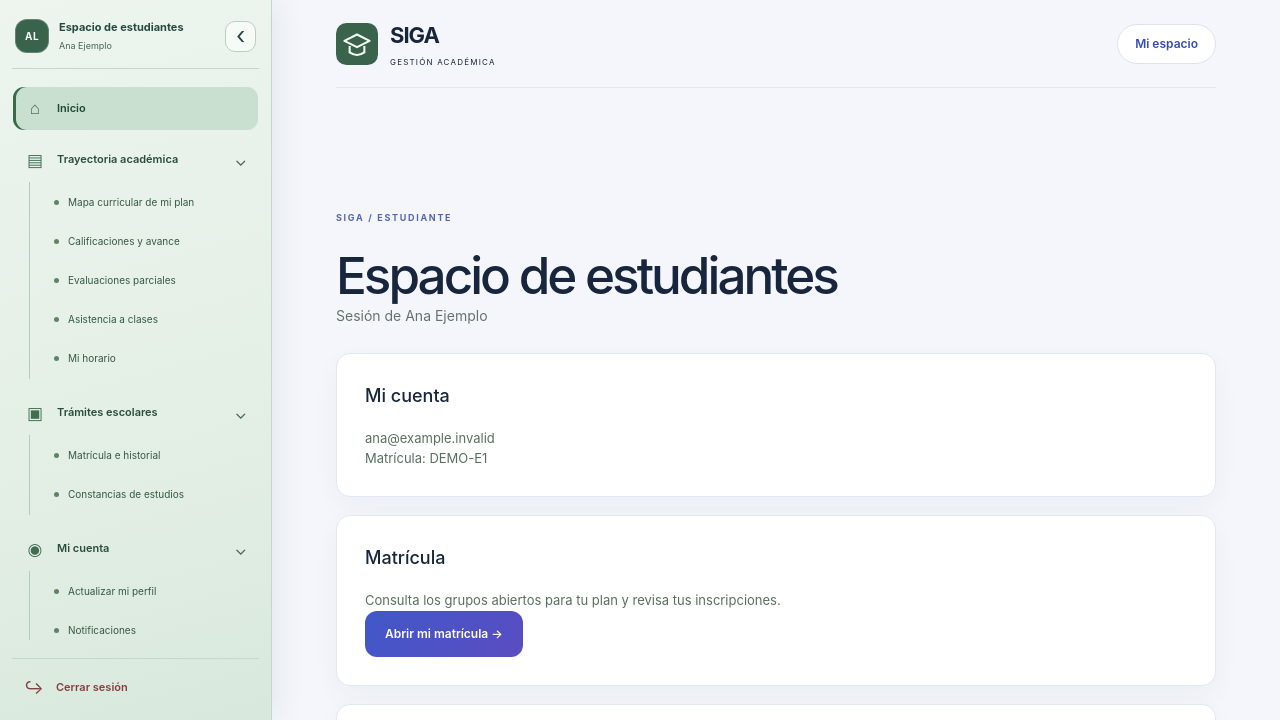
Scenario: Portal y acceso › muestra el menú académico del estudiante y permite plegar secciones y barra
Expected: the navigation bar named "Funciones de Espacio de estudiantes" is shown, [12,87,259,640]
Click the button "▤ Trayectoria académica ⌄" at x=136, y=160, box [13,139,258,181]
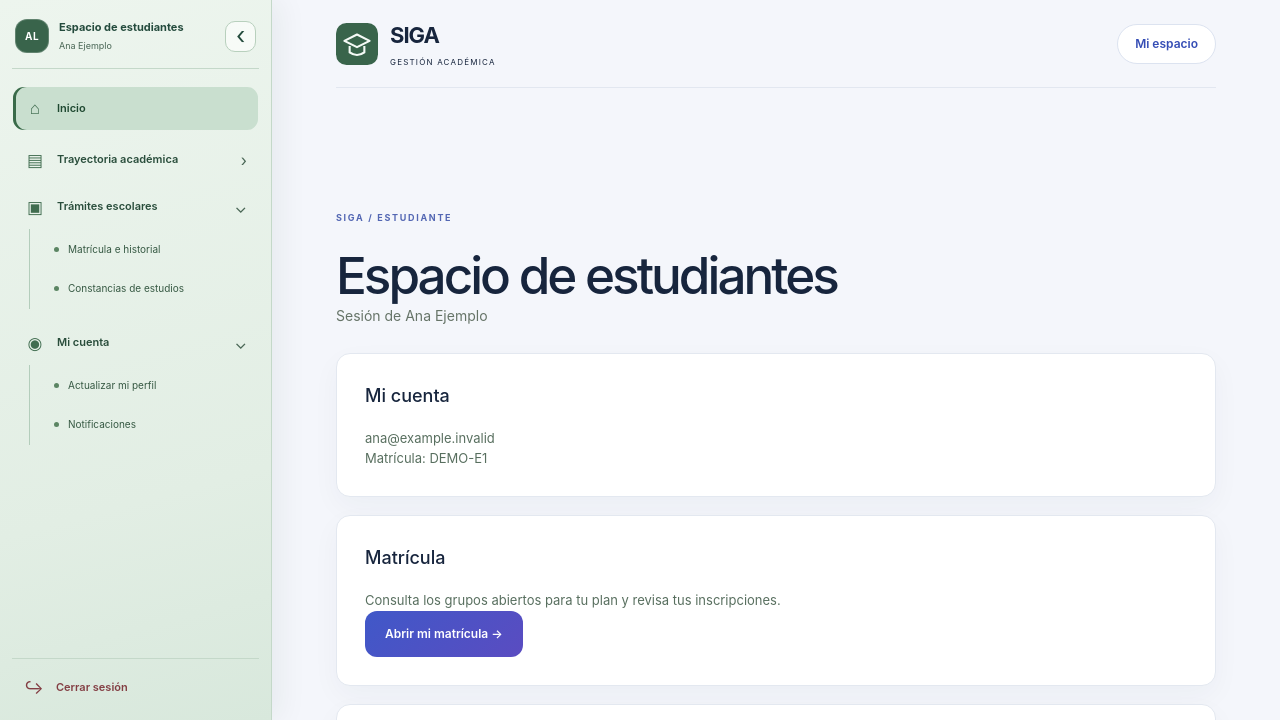
Result: the button "▤ Trayectoria académica ›" is collapsed
Result: the link "Mapa curricular de mi plan" is gone
Click the button "▤ Trayectoria académica ›" at x=136, y=160, box [13,139,258,181]
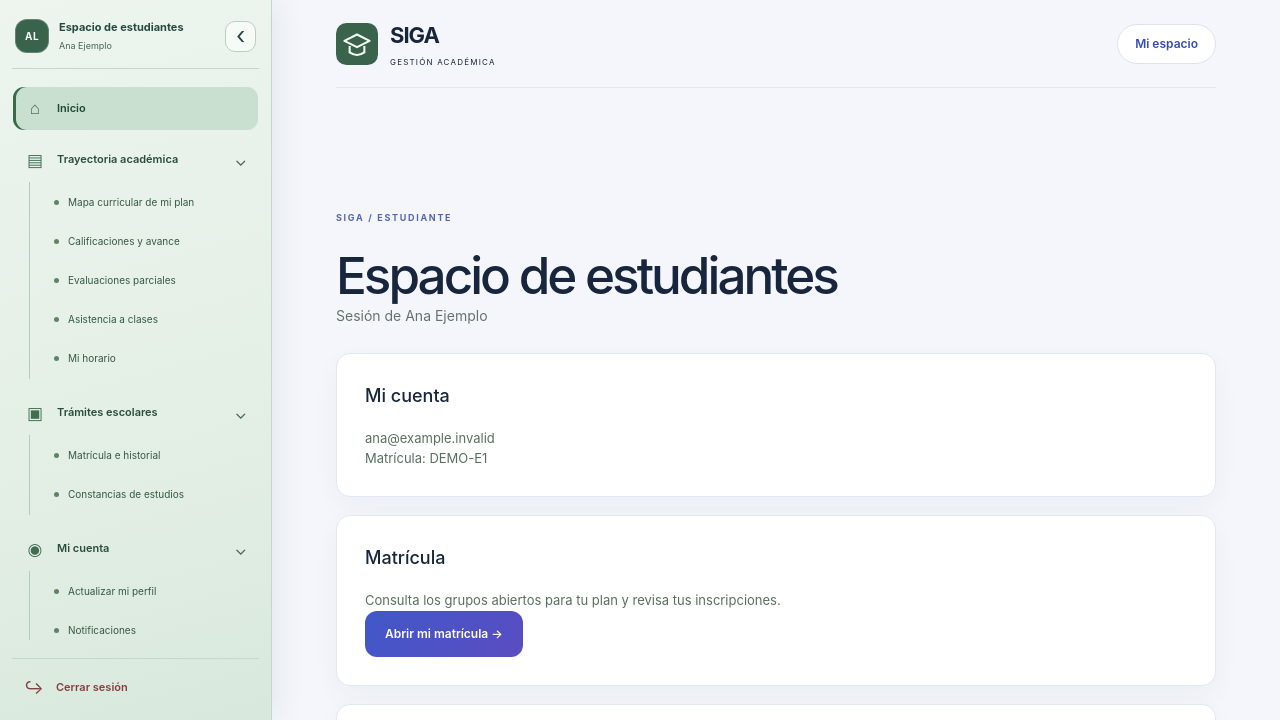
Click the link "Mapa curricular de mi plan" at x=124, y=202, box [54,196,194,208]
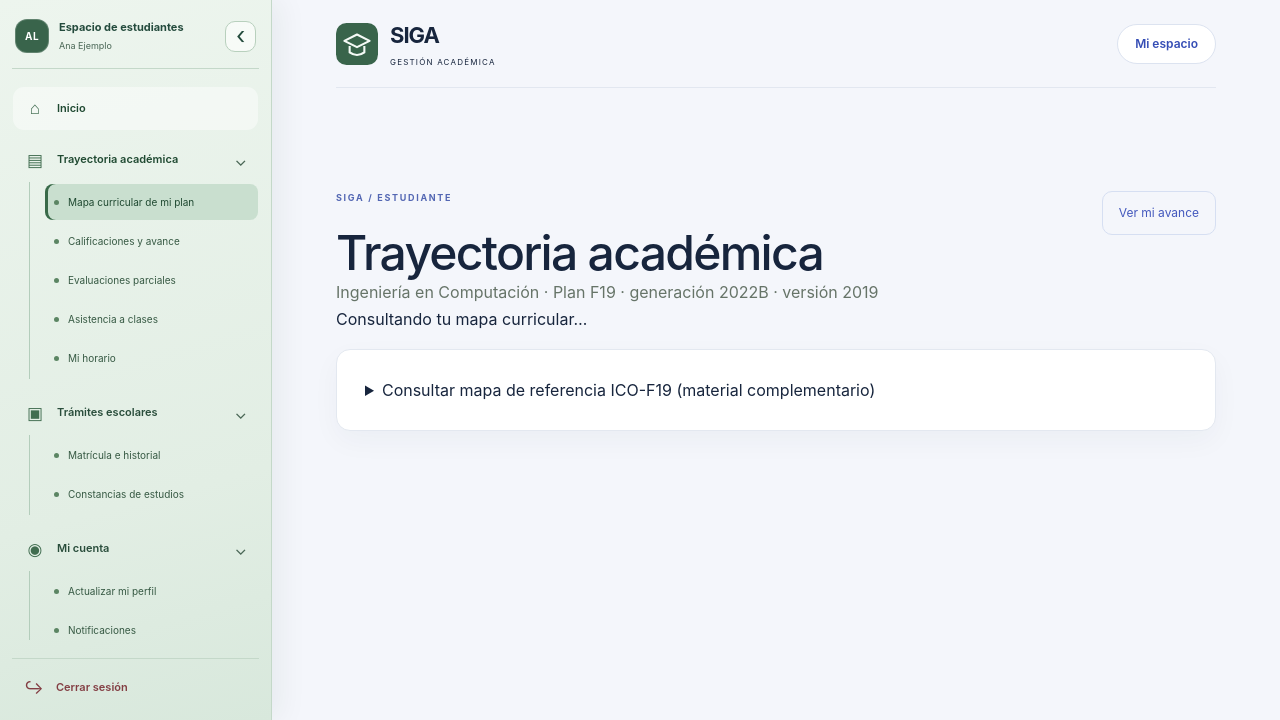
Result: the heading "Trayectoria académica" is shown at [336,227,878,280]
Click the button named "Contraer menú" at x=240, y=36, box [225,20,256,52]
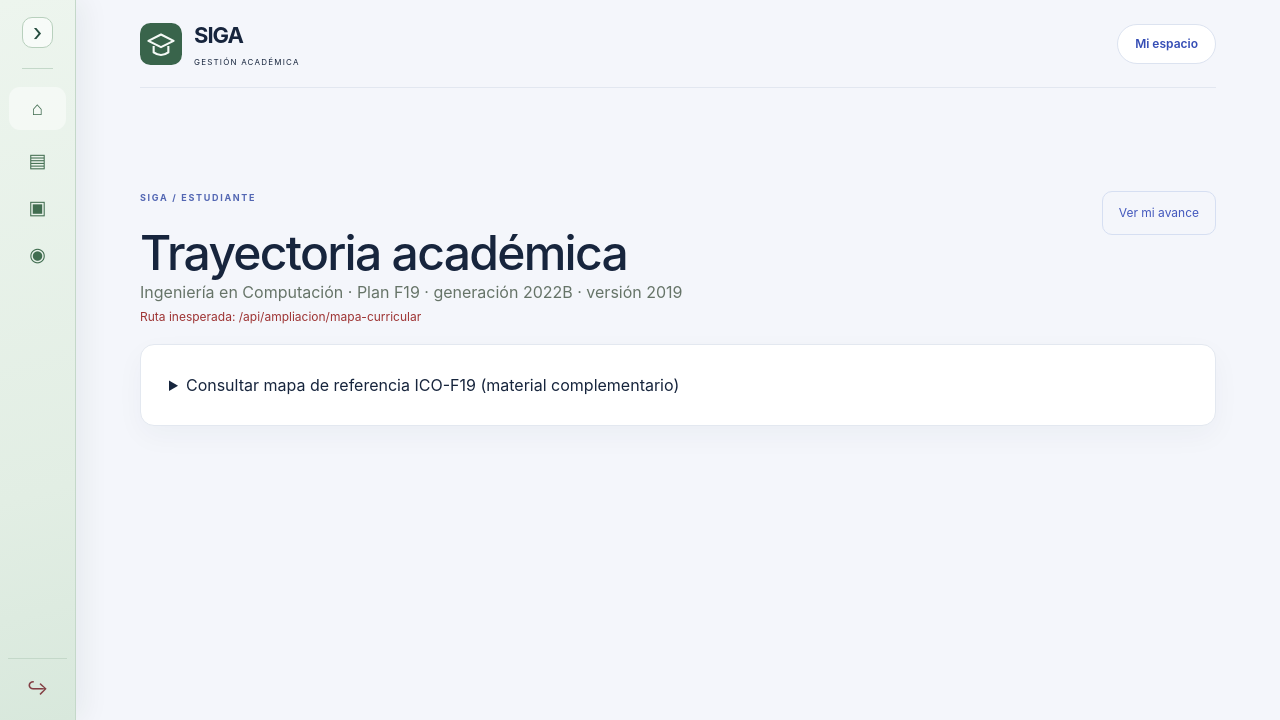
Result: the button named "Expandir menú" is collapsed
Click the button named "Expandir menú" at x=38, y=32, box [22,17,53,48]
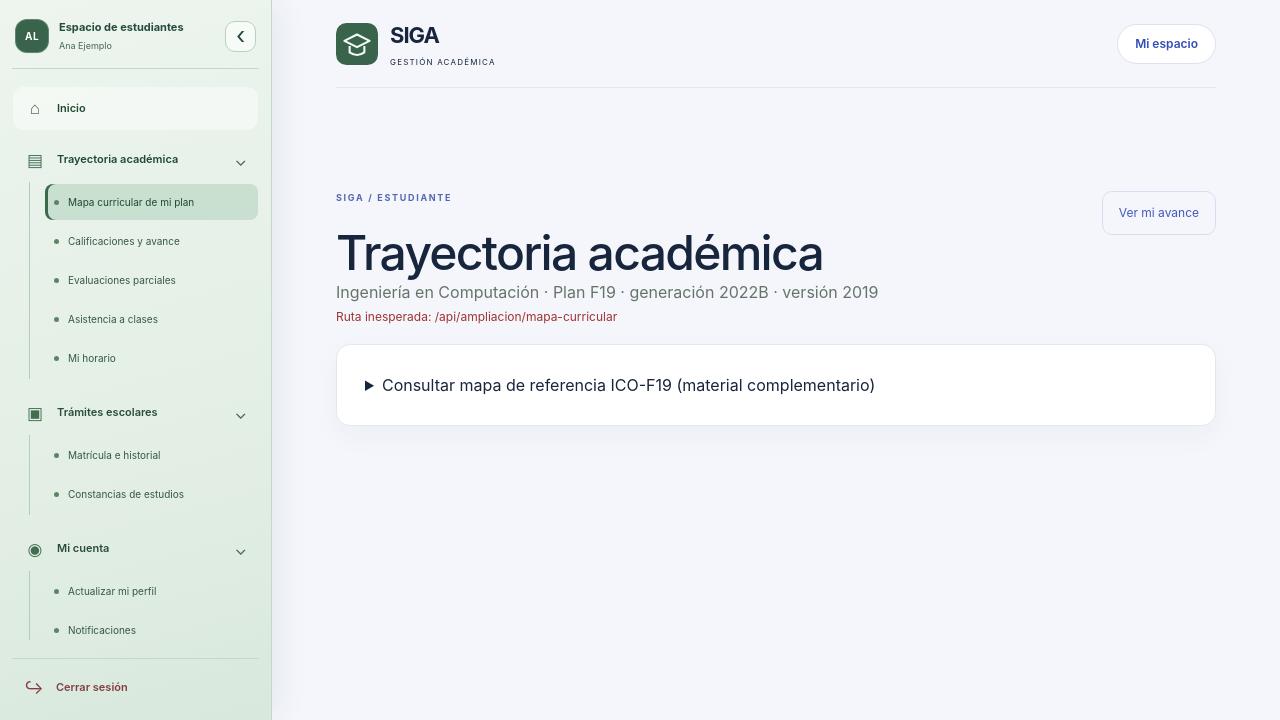
Result: the link "Calificaciones y avance" is shown at [54,235,180,247]
